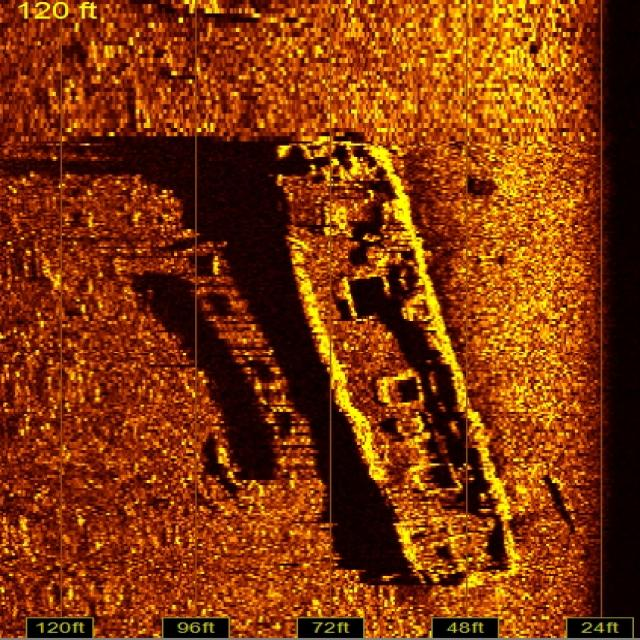ship: (269, 136, 536, 590)
